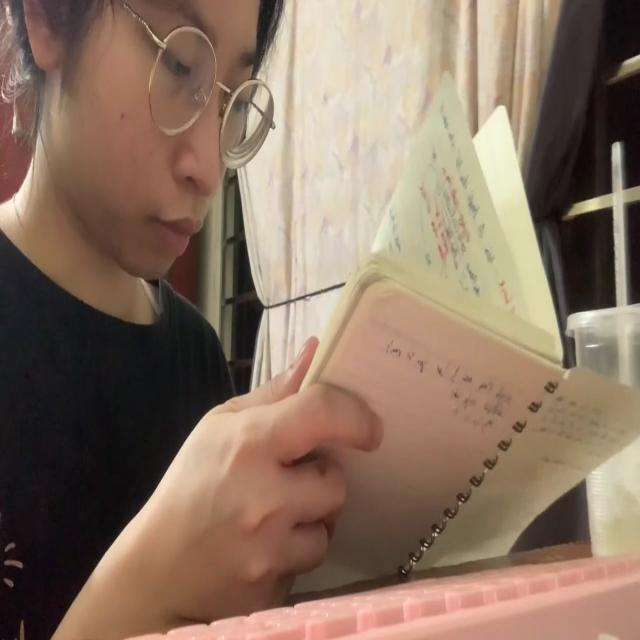book: (308, 59, 639, 588)
student: (0, 0, 383, 640)
